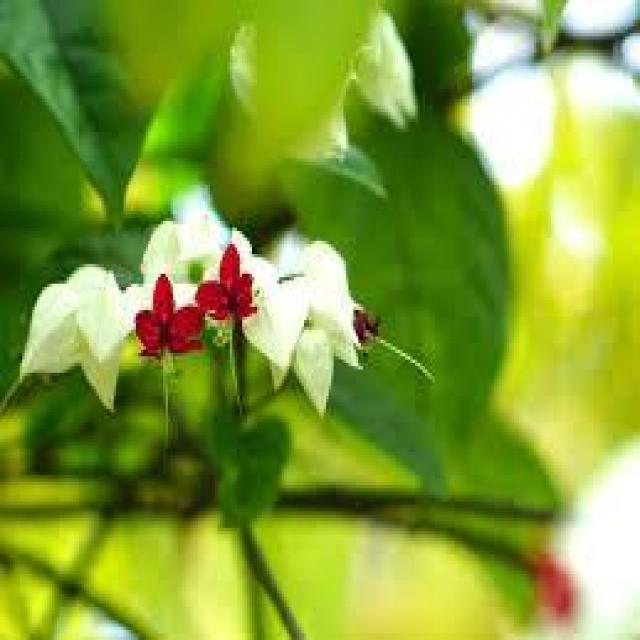organic waste: (24, 188, 394, 399)
